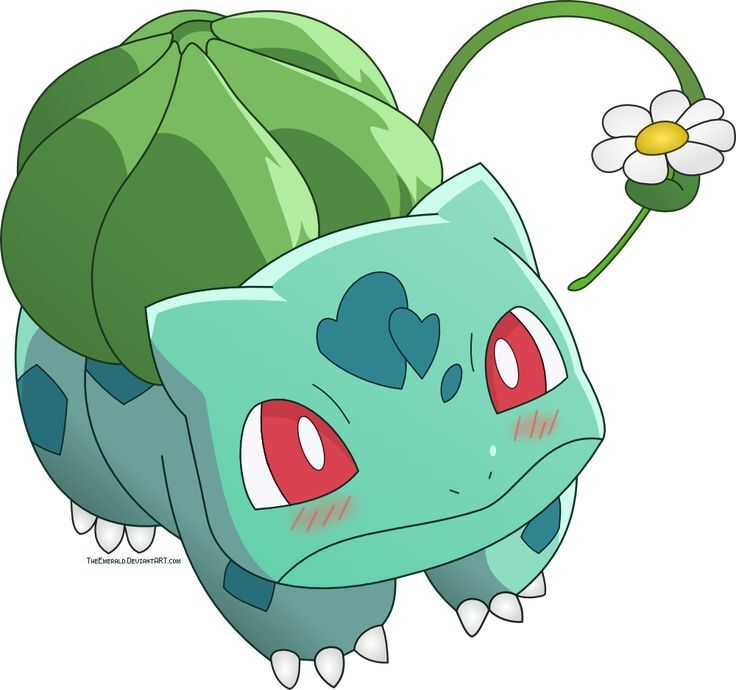001-bulbasaur: (7, 12, 618, 679)
